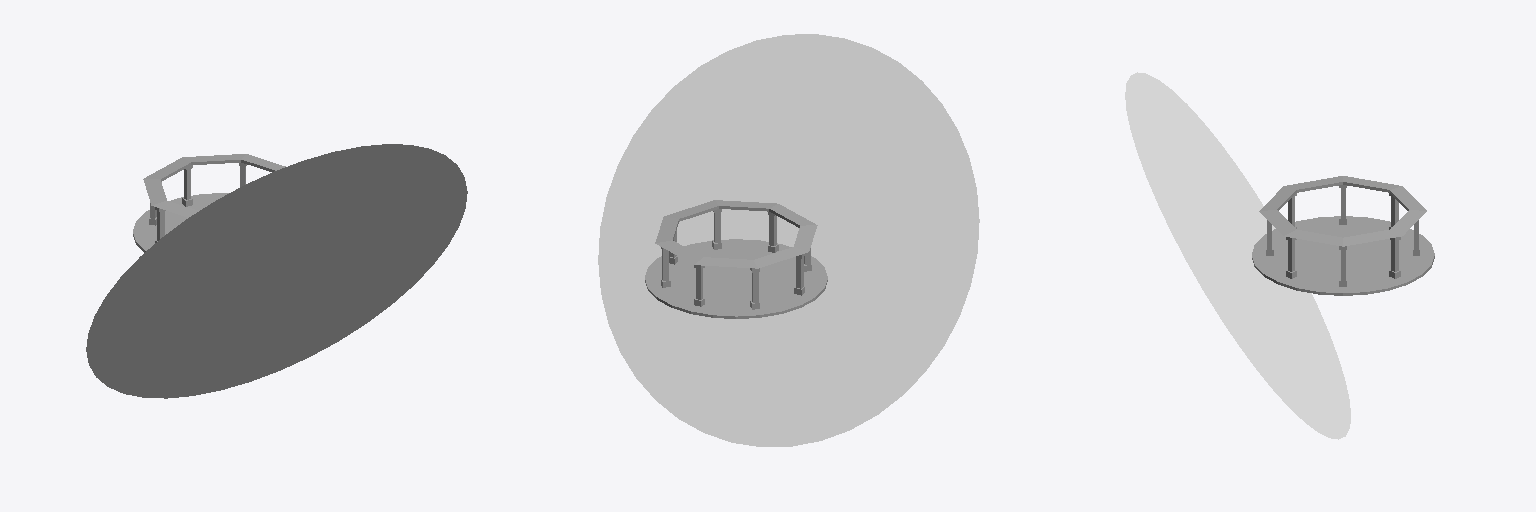
3 renders of one model, left to right at view 1: azimuth 30°, elevation 25°; view 2: azimuth 150°, elevation 25°; view 3: azimuth 270°, elevation 25°, orthographic.
Parts seen in each view (by area): view 1: Circle, Torus, Cylinder; view 2: Circle, Cylinder, Torus; view 3: Circle, Cylinder, Torus.
Boxes of the visible parts, x1,y1,x2,y2 form: Circle: [86, 144, 467, 398]; Torus: [143, 154, 285, 217]; Cylinder: [133, 193, 228, 252]; Circle: [598, 34, 979, 446]; Cylinder: [645, 239, 827, 318]; Torus: [655, 200, 817, 268]; Circle: [1125, 72, 1350, 439]; Cylinder: [1252, 216, 1434, 295]; Torus: [1259, 176, 1426, 246].
Bounding box in the file's own units: 2.3 × 1.94 × 1.69.
2 materials, 1 textured.